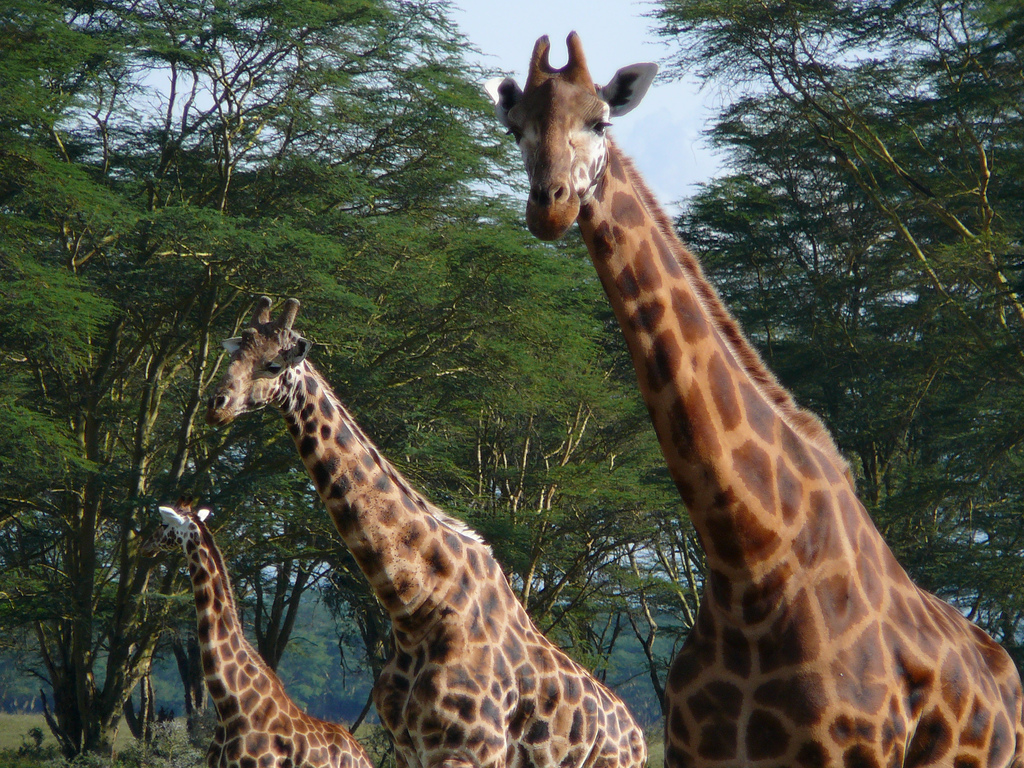giraffe: (467, 21, 1002, 754), (211, 278, 647, 768), (120, 458, 342, 755)
